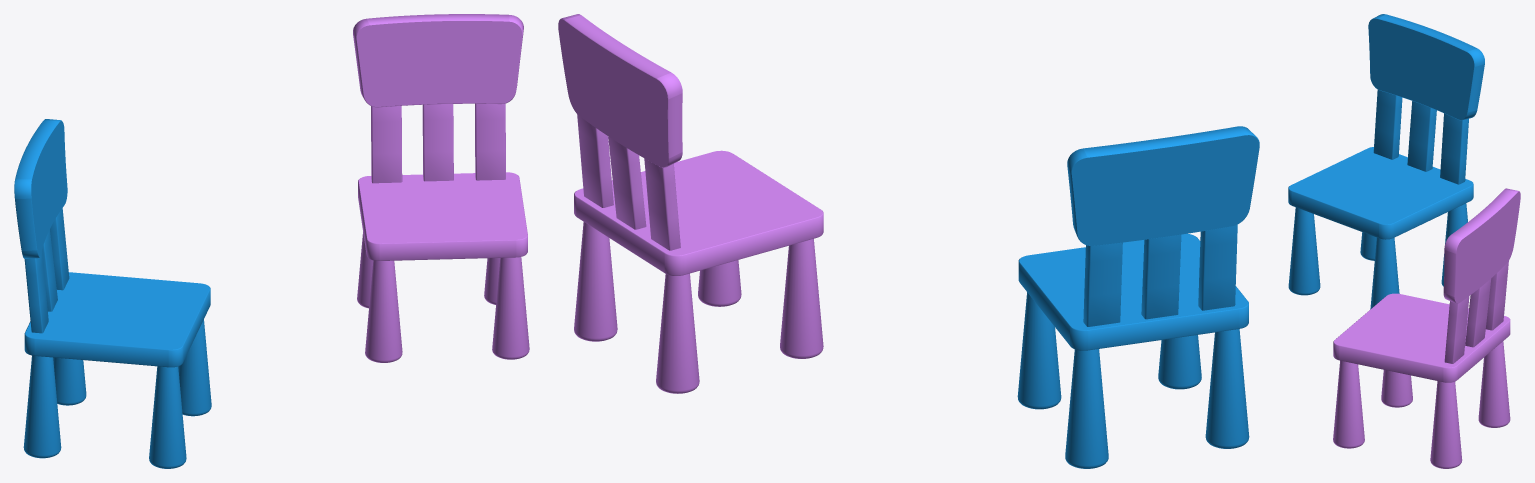
Rendered from chair.obj.
3 views of the same model, side by side, from view 1: azimuth 30°, elevation 25°; view 2: azimuth 150°, elevation 25°; view 3: azimuth 270°, elevation 25° (orthographic). The views are drawn at different scales.
Visible parts, largest first — view 1: Rectangle002, Rectangle001, Rectangle003, Rectangle004, ChamferCyl003, ChamferCyl009, ChamferCyl002, ChamferCyl006, ChamferBox001, ChamferBox003, ChamferBox002, ChamferCyl008 (+6 smaller); view 2: Rectangle004, Rectangle001, Rectangle003, Rectangle002, ChamferCyl007, ChamferCyl005, ChamferCyl006, ChamferCyl002, ChamferCyl004, ChamferCyl008, ChamferBox008, ChamferBox007 (+6 smaller); view 3: Rectangle003, Rectangle001, Rectangle004, Rectangle002, ChamferCyl004, ChamferCyl003, ChamferCyl009, ChamferCyl005, ChamferBox008, ChamferBox009, ChamferBox007, ChamferCyl008 (+6 smaller).
Boxes of the visible parts, bbox=[...] form: Rectangle002: bbox=[353, 14, 523, 107]; Rectangle001: bbox=[358, 172, 527, 260]; Rectangle003: bbox=[24, 272, 210, 367]; Rectangle004: bbox=[14, 119, 67, 258]; ChamferCyl003: bbox=[492, 257, 529, 359]; ChamferCyl009: bbox=[149, 366, 186, 468]; ChamferCyl002: bbox=[365, 260, 402, 362]; ChamferCyl006: bbox=[23, 355, 61, 458]; ChamferBox001: bbox=[422, 104, 453, 181]; ChamferBox003: bbox=[371, 106, 402, 183]; ChamferBox002: bbox=[475, 103, 505, 180]; ChamferCyl008: bbox=[178, 319, 211, 416]; Rectangle004: bbox=[1067, 126, 1259, 245]; Rectangle001: bbox=[574, 150, 823, 275]; Rectangle003: bbox=[1018, 233, 1248, 350]; Rectangle002: bbox=[558, 14, 682, 167]; ChamferCyl007: bbox=[1065, 349, 1108, 468]; ChamferCyl005: bbox=[656, 273, 699, 393]; ChamferCyl006: bbox=[1205, 329, 1249, 448]; ChamferCyl002: bbox=[780, 239, 823, 358]; ChamferCyl004: bbox=[574, 222, 617, 341]; ChamferCyl008: bbox=[1017, 292, 1061, 409]; ChamferBox008: bbox=[1083, 242, 1122, 326]; ChamferBox007: bbox=[1198, 224, 1237, 310]; Rectangle003: bbox=[1288, 147, 1473, 239]; Rectangle001: bbox=[1333, 293, 1510, 382]; Rectangle004: bbox=[1368, 14, 1484, 120]; Rectangle002: bbox=[1443, 188, 1520, 303]; ChamferCyl004: bbox=[1430, 381, 1462, 468]; ChamferCyl003: bbox=[1333, 360, 1364, 448]; ChamferCyl009: bbox=[1288, 207, 1320, 295]; ChamferCyl005: bbox=[1478, 341, 1510, 427]; ChamferBox008: bbox=[1440, 113, 1468, 184]; ChamferBox009: bbox=[1407, 101, 1436, 171]; ChamferBox007: bbox=[1373, 90, 1402, 159]; ChamferCyl008: bbox=[1370, 237, 1399, 309].
Size of the model in its own units: 127 by 60.07 by 54.16.
